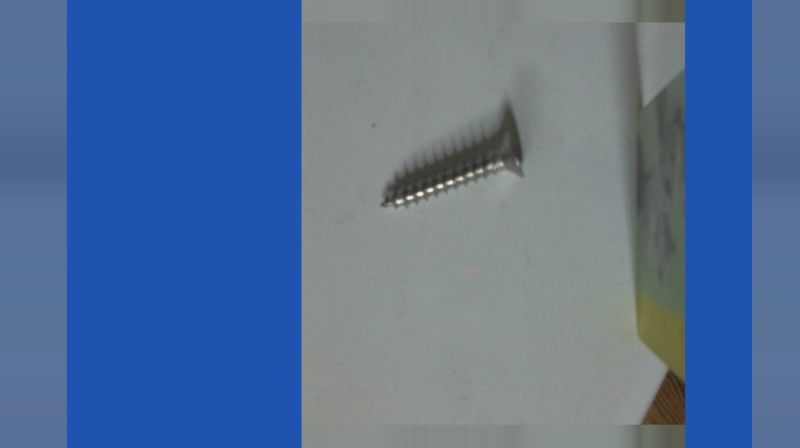S001: (379, 133, 527, 211)
